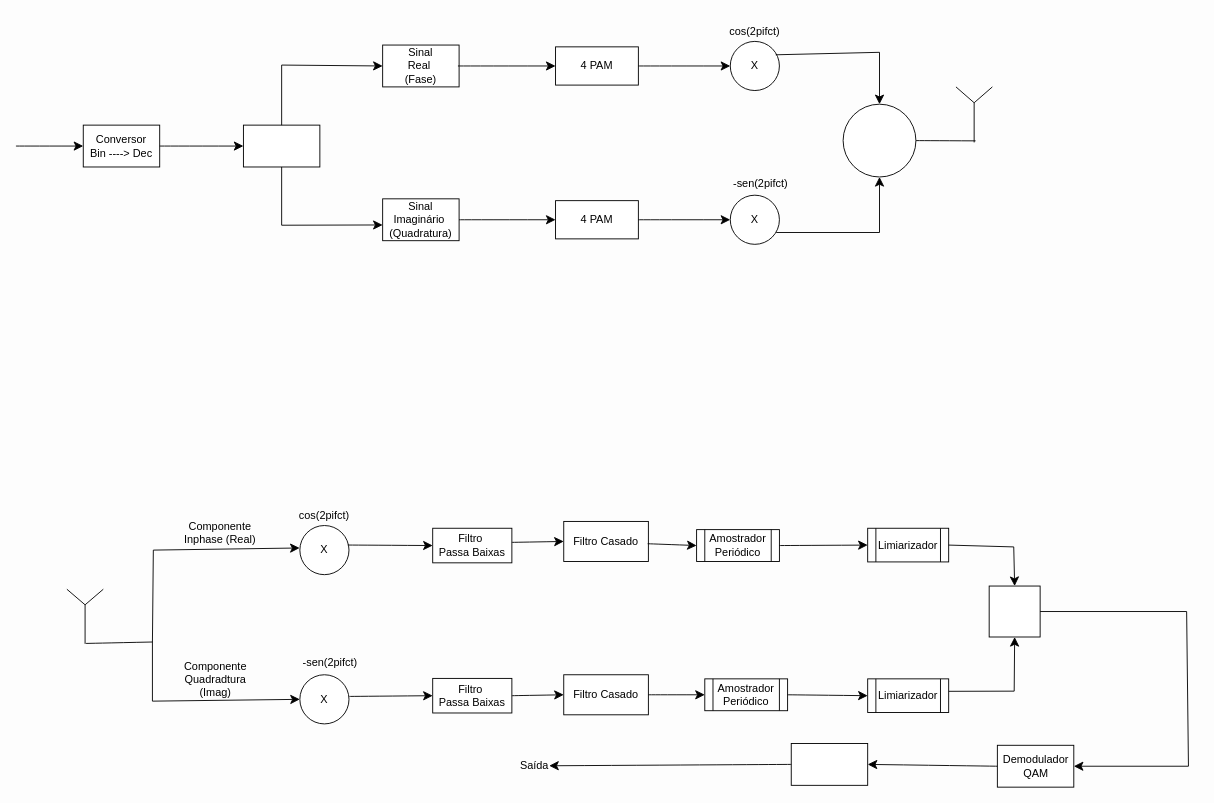
The diagram is 1214 pixels wide and 803 high, and some of its shapes have lost their labels. Here are the shapes that lost their labels. From the top down, the centre of each, then its label:
point (281, 145): Modulador QAM
point (879, 140): SOMADOR
point (1014, 611): Integrador Real / Complexo
point (829, 764): Conversor Dec ----> Bin
